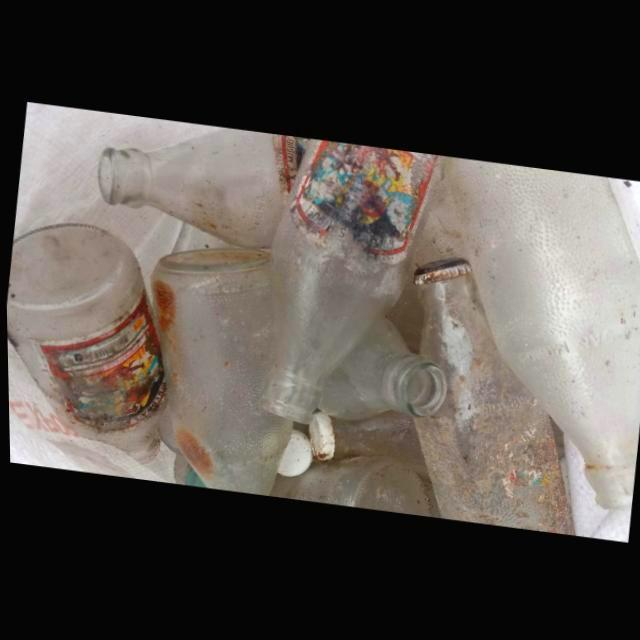glass_bottle: (442, 156, 640, 508), (258, 139, 446, 424), (411, 257, 571, 535), (5, 223, 166, 465), (148, 248, 291, 496), (96, 128, 306, 249), (315, 317, 445, 420), (265, 454, 431, 517)
